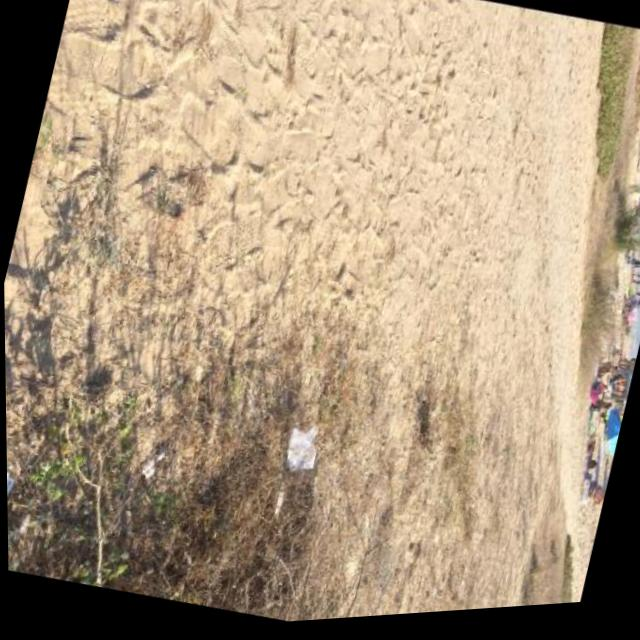plastic: (282, 417, 325, 475)
